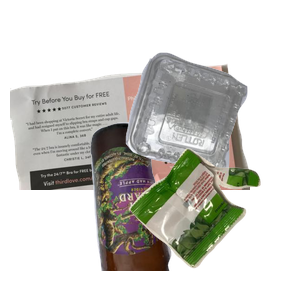glass: (88, 120, 252, 300)
paper: (10, 61, 250, 241)
plastic: (123, 50, 300, 214)
trash: (127, 146, 300, 300)
